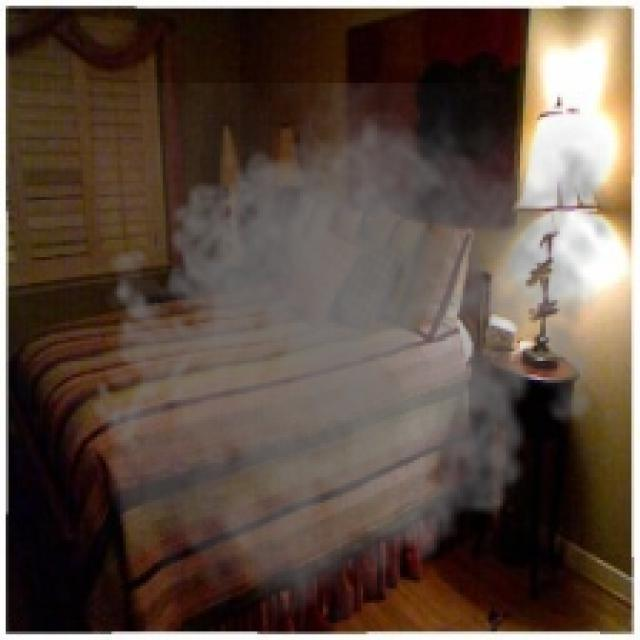Smoke: (82, 82, 628, 638)
